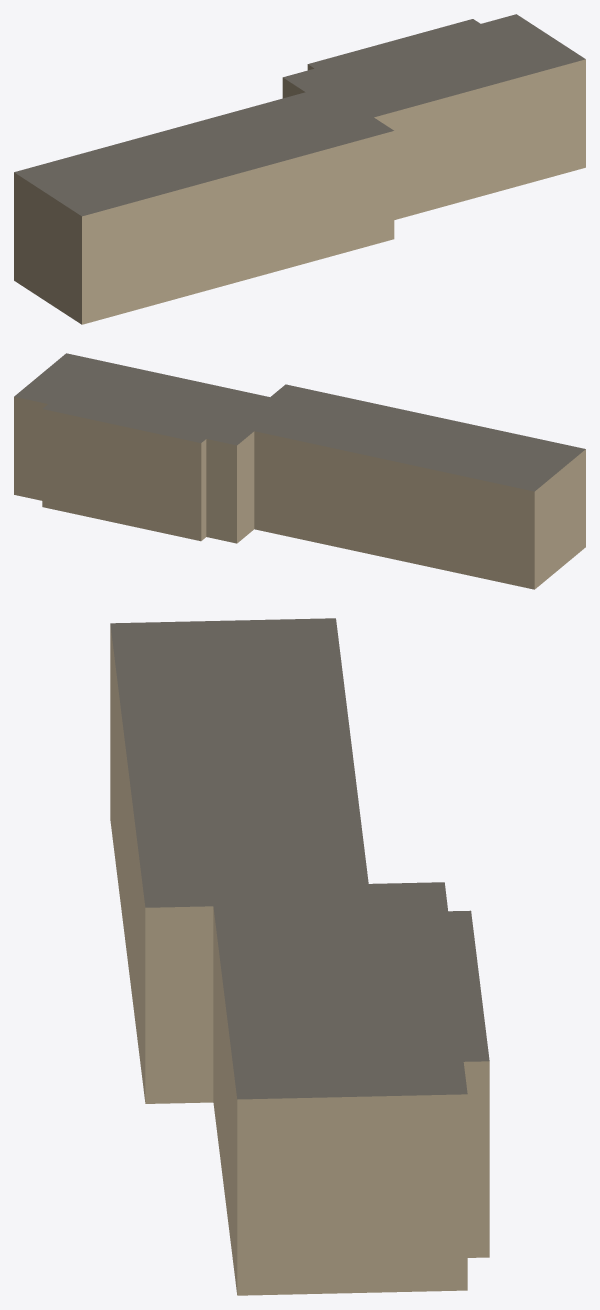
3 renders of one model, top to bottom at view 1: azimuth 30°, elevation 25°; view 2: azimuth 150°, elevation 25°; view 3: azimuth 270°, elevation 25°, orthographic. The views are drawn at different scales.
Parts seen in each view (by area): view 1: HP-w299225192; view 2: HP-w299225192; view 3: HP-w299225192.
Boxes of the visible parts, x1,y1,x2,y2 form: HP-w299225192: (14,14,585,324); HP-w299225192: (14,353,585,589); HP-w299225192: (110,618,489,1295).
Size of the model in its own units: 69.42 by 13.2 by 23.13.
